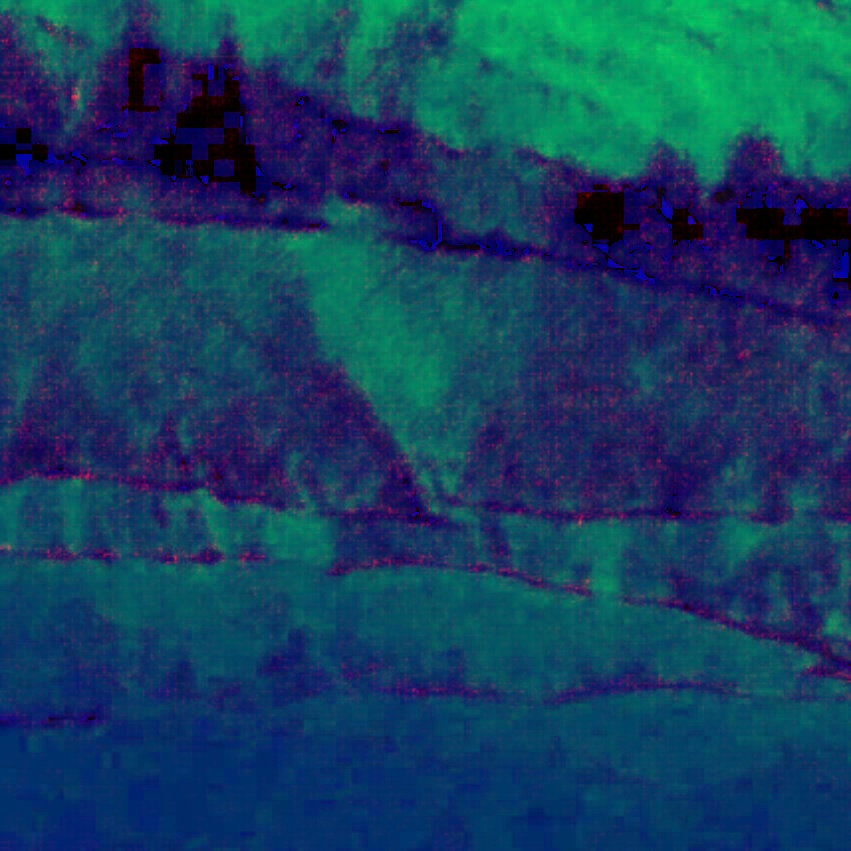rip_current: (236, 163, 549, 513)
